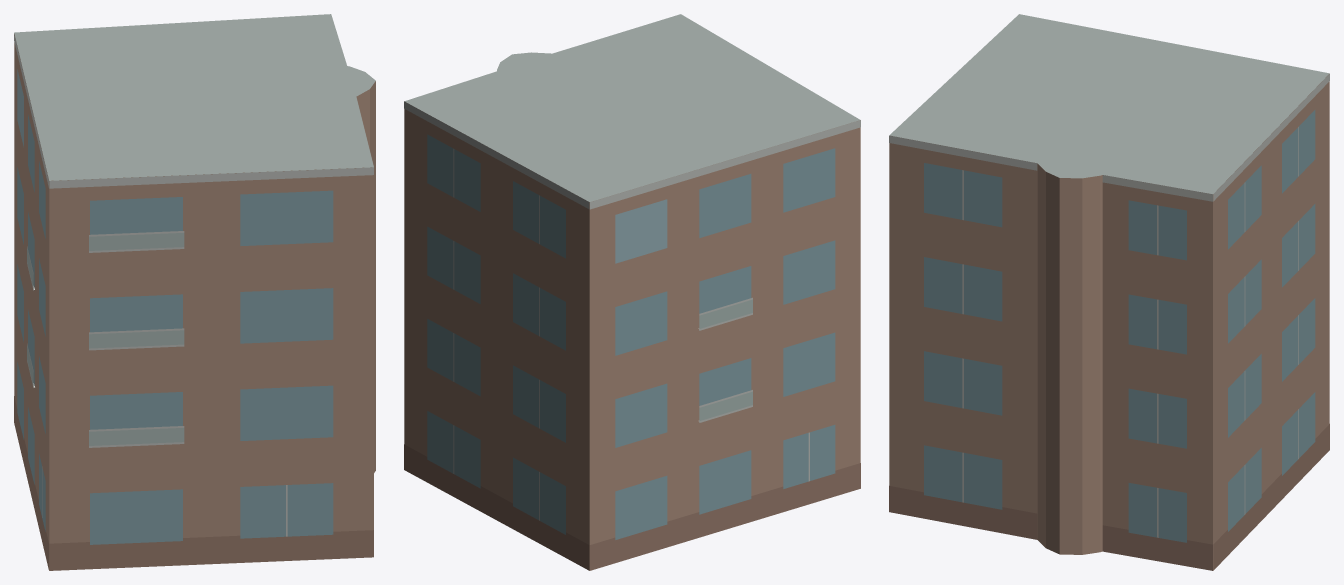
File: survey-upis-32818276.glb
3 views of the same model, side by side, from view 1: azimuth 30°, elevation 25°; view 2: azimuth 150°, elevation 25°; view 3: azimuth 270°, elevation 25° (orthographic). The views are drawn at different scales.
Visible parts, largest first — view 1: survey-upis-32818276.tmp; view 2: survey-upis-32818276.tmp; view 3: survey-upis-32818276.tmp.
Part boxes in pixels (bbox=[...]): survey-upis-32818276.tmp: bbox=[14, 14, 375, 570]; survey-upis-32818276.tmp: bbox=[404, 14, 860, 570]; survey-upis-32818276.tmp: bbox=[889, 14, 1329, 570].
Size of the model in its own units: 12.53 by 12.2 by 12.95.
